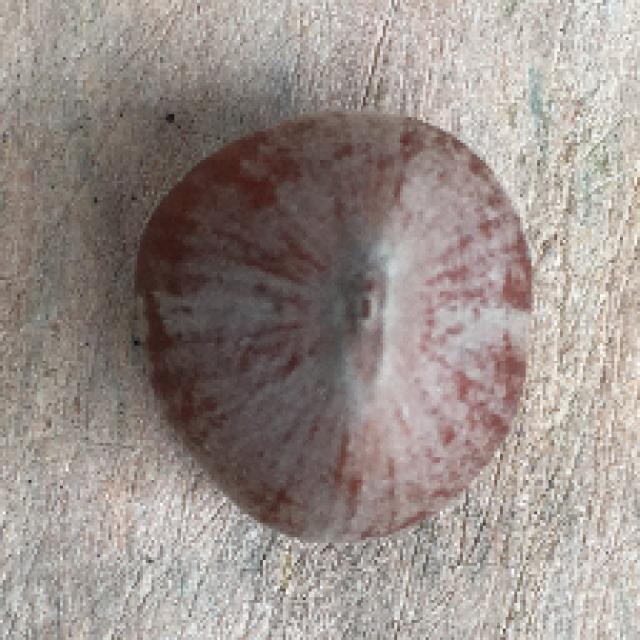qualityHazelnut: (128, 106, 549, 547)
